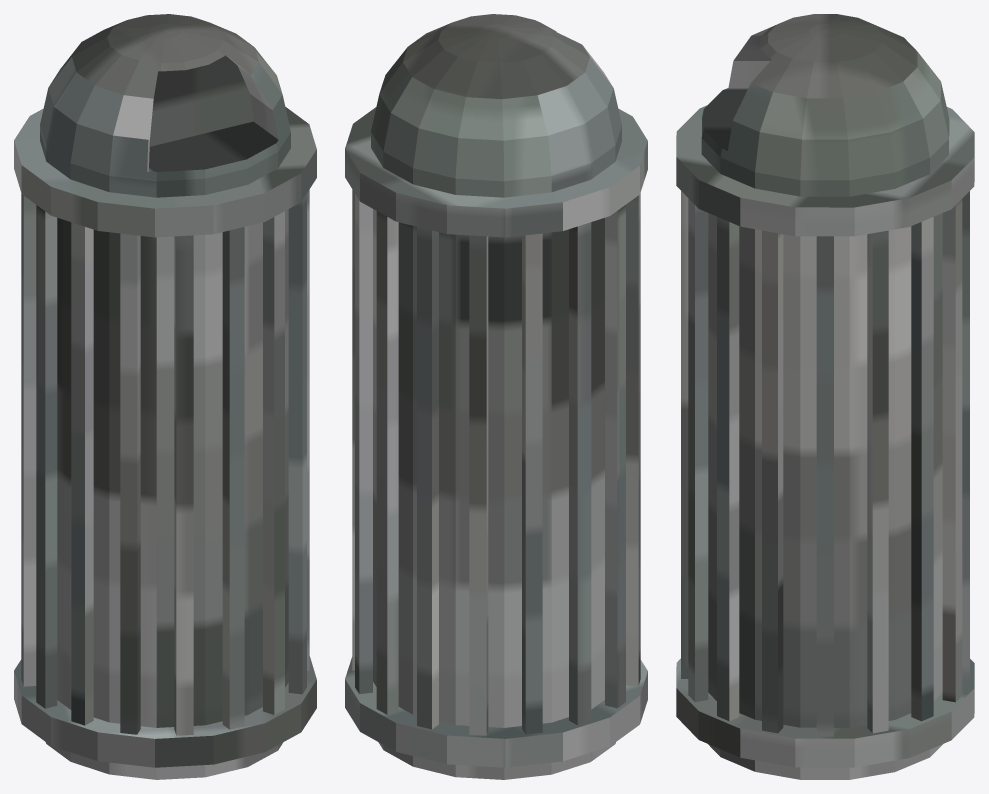
File: BasuraComercial.fbx
3 views of the same model, side by side, from view 1: azimuth 30°, elevation 25°; view 2: azimuth 150°, elevation 25°; view 3: azimuth 270°, elevation 25° (orthographic).
Visible parts, largest first — view 1: Chair.004; view 2: Chair.004; view 3: Chair.004.
Boxes of the visible parts, x1=… form: Chair.004: x1=14, y1=14, x2=316, y2=779; Chair.004: x1=345, y1=14, x2=647, y2=779; Chair.004: x1=676, y1=14, x2=974, y2=779.
Size of the model in its own units: 29.11 by 75.15 by 29.11.
1 material, 1 textured.
